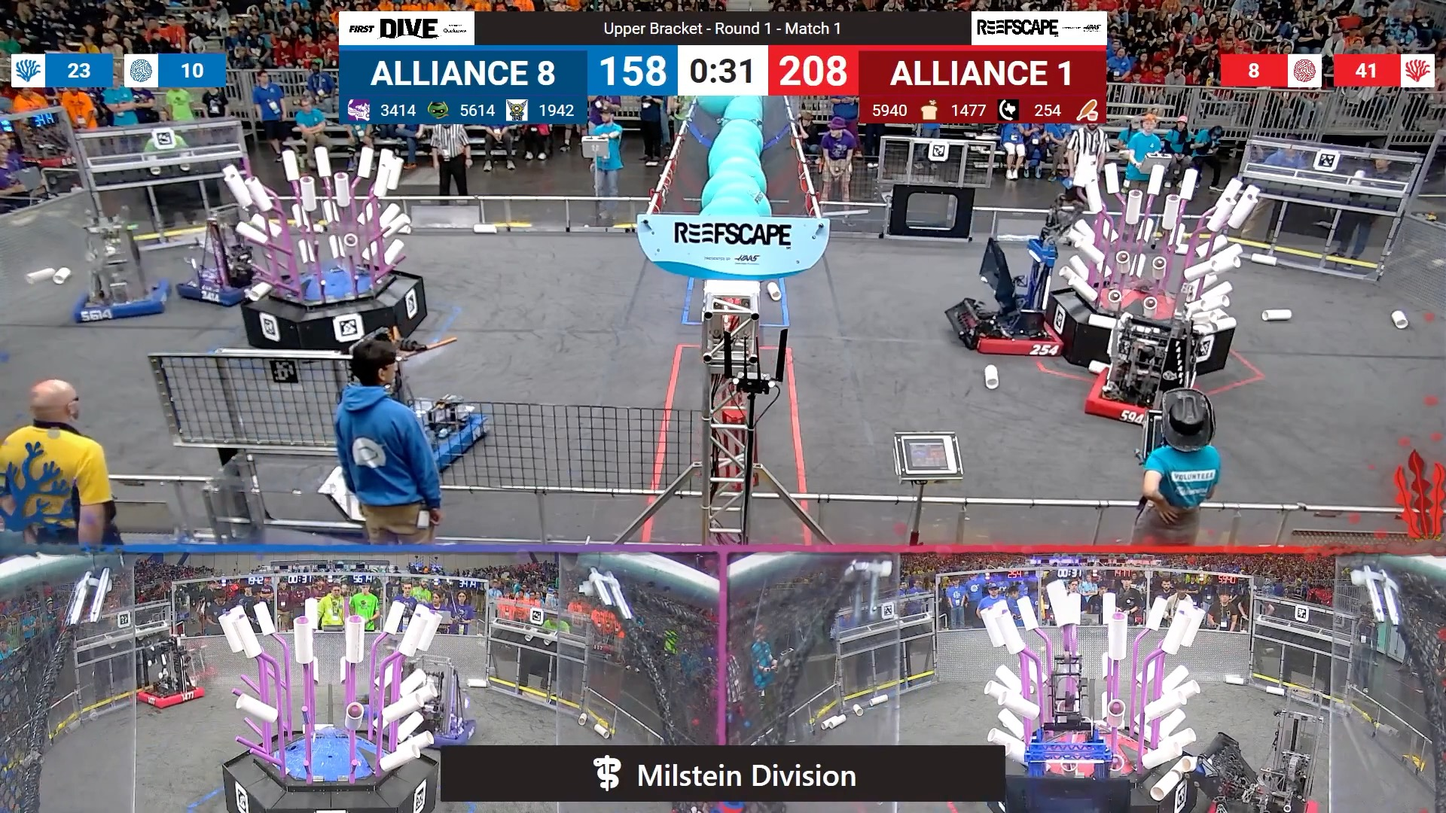bumpers: (389, 394, 490, 485), (1077, 369, 1192, 430), (957, 309, 1078, 364), (69, 279, 176, 331), (173, 267, 276, 309), (384, 712, 484, 747), (1198, 786, 1326, 813), (131, 683, 211, 714)
